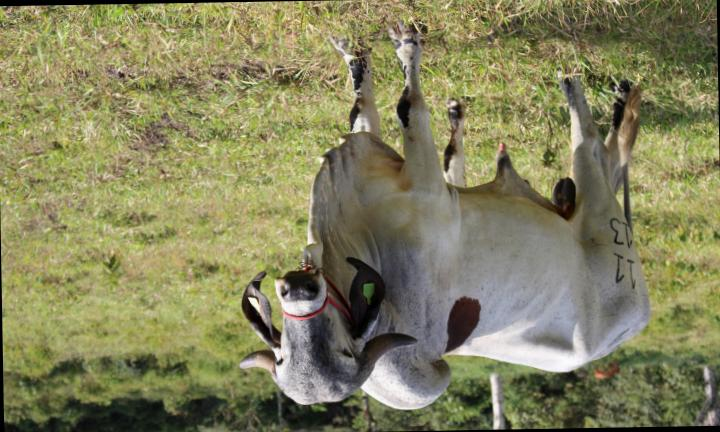Brahman: (239, 22, 650, 409)
